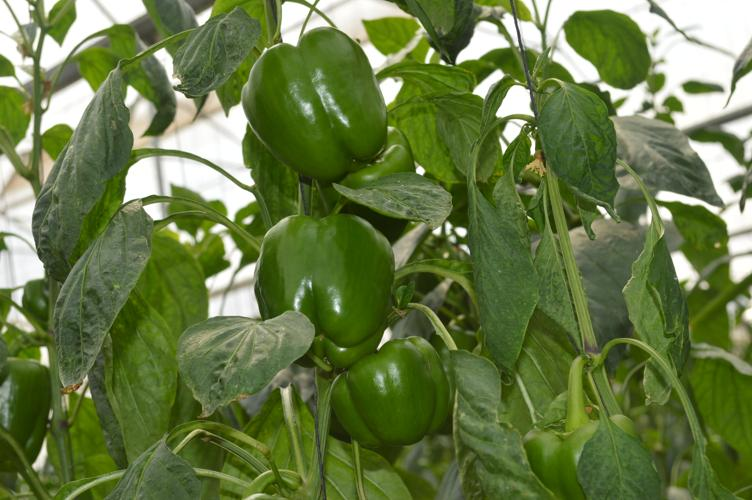BellPepper: (241, 26, 388, 177), (258, 213, 396, 371), (320, 338, 447, 451), (518, 411, 630, 500), (341, 121, 413, 236), (4, 355, 59, 471)
